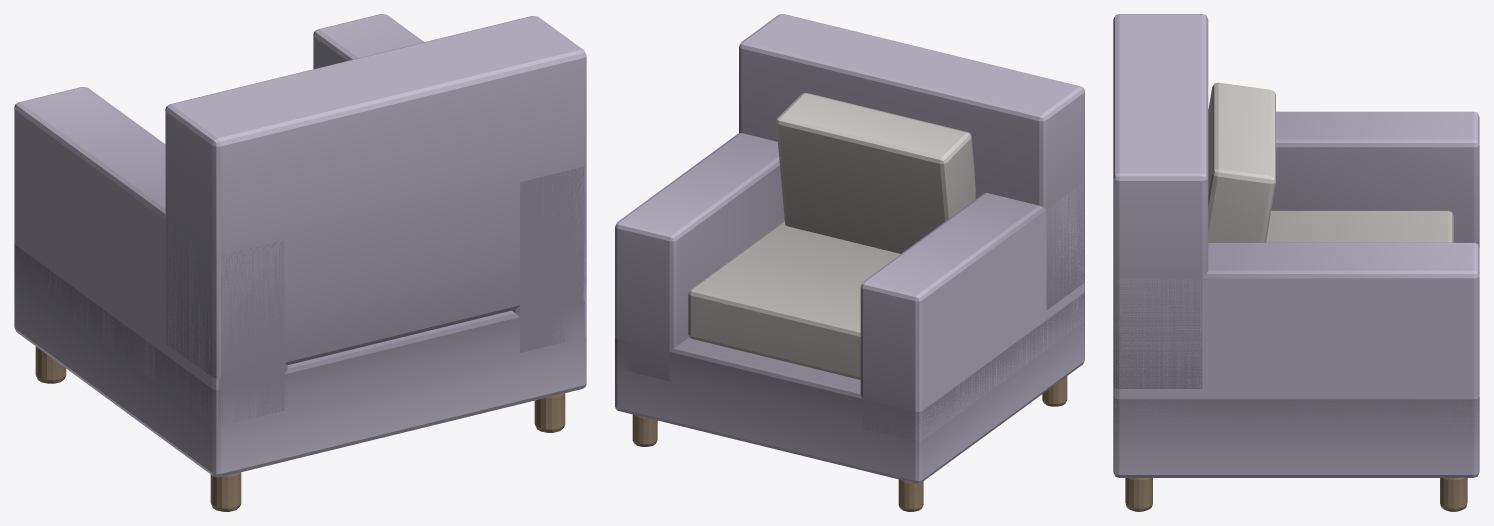
File: furn_armchair__lavender.glb
3 views of the same model, side by side, from view 1: azimuth 30°, elevation 25°; view 2: azimuth 150°, elevation 25°; view 3: azimuth 270°, elevation 25° (orthographic). The views are drawn at different scales.
Size of the model in its own units: 0.9 by 0.88 by 0.85.
